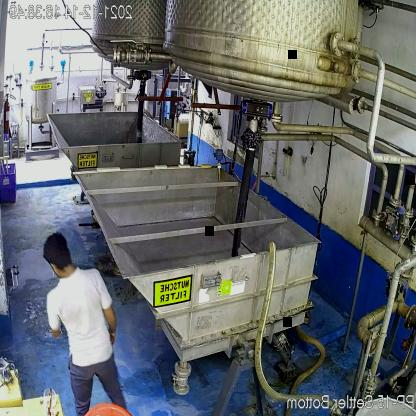no_glove: (104, 303, 121, 344)
